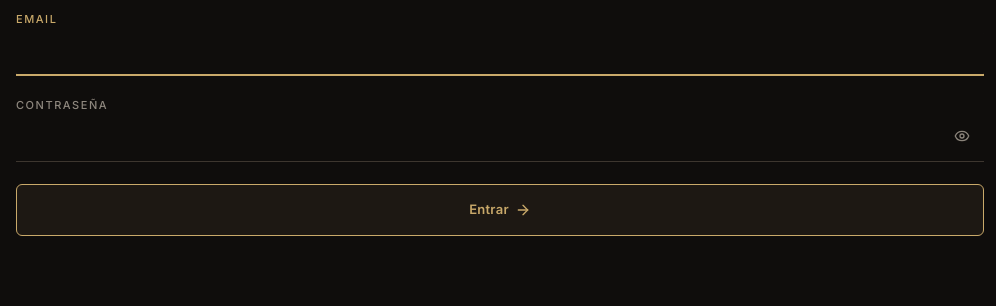
Test: formulario de login › el mensaje se elige por CODE, no por la cadena que mande el servidor
This screenshot has width=996, height=306.
Type "james@jamesfilm.pe" into the field labelled "Email".
click(500, 54); type("james@jamesfilm.pe")  # box [16,32,984,76]
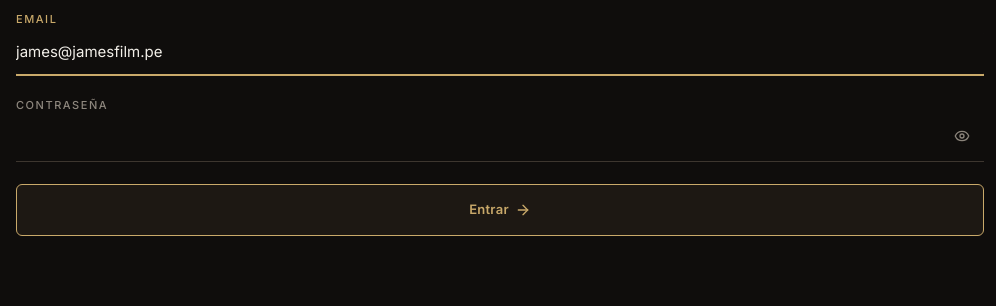
Type "una-clave-larga" into the password field labelled "Contraseña".
click(500, 140); type("una-clave-larga")  # box [16,118,984,162]
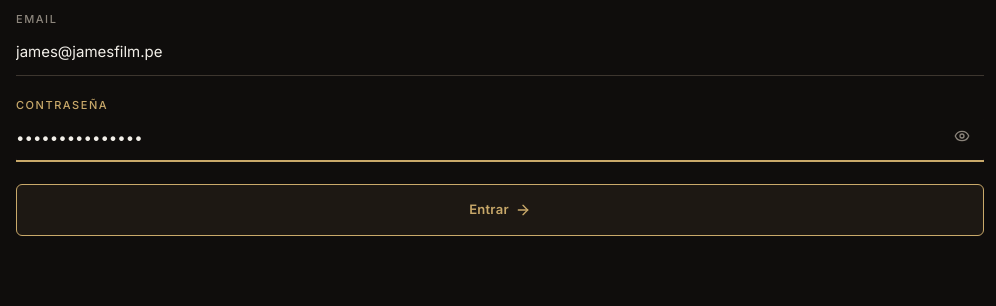
Click the button "Entrar".
click(500, 210)  # box [16,184,984,236]
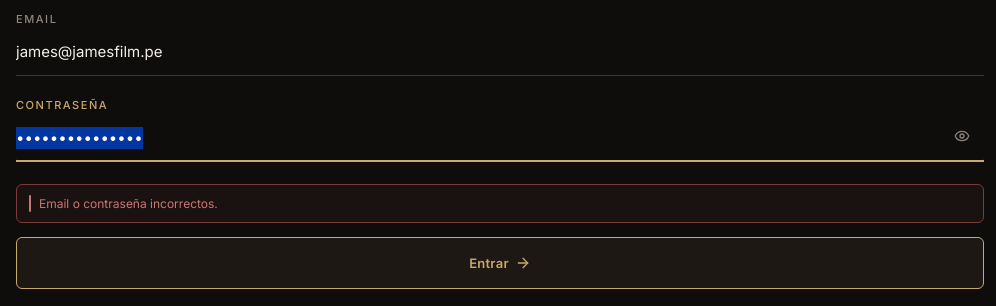
Now the text "Email o contraseña incorrectos." is shown, box [16,184,984,223]
